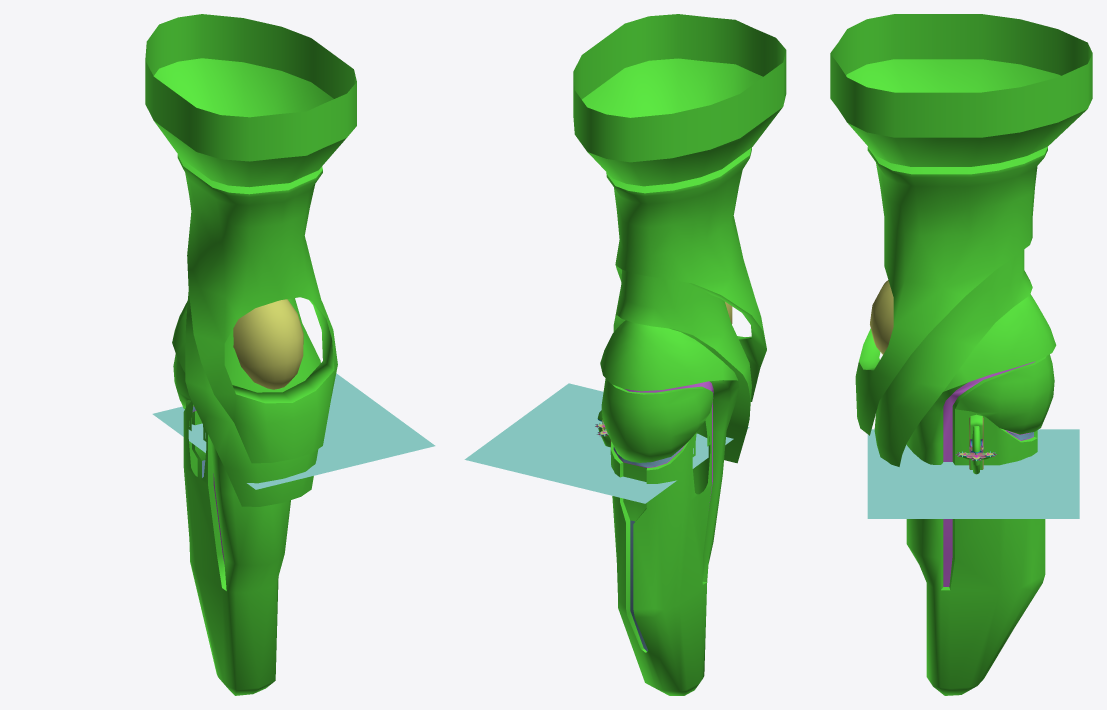
The picture shows the model from 3 angles, left to right: view 1: azimuth 30°, elevation 25°; view 2: azimuth 150°, elevation 25°; view 3: azimuth 270°, elevation 25°; orthographic projection. The views are drawn at different scales.
Parts seen in each view (by area): view 1: towerbcap1, cluster_19_cull01, cluster_19_cull03, towerbegg; view 2: towerbcap1, cluster_19_cull01, cluster_19_cull03; view 3: towerbcap1, cluster_19_cull01, cluster_19_cull03, towerbegg, cluster_19, cluster_19_cull02.
Boxes of the visible parts, bbox=[...] form: towerbcap1: bbox=[145, 14, 356, 463]; cluster_19_cull01: bbox=[172, 291, 320, 695]; cluster_19_cull03: bbox=[152, 373, 435, 489]; towerbegg: bbox=[233, 299, 303, 389]; towerbcap1: bbox=[573, 14, 786, 401]; cluster_19_cull01: bbox=[600, 269, 751, 695]; cluster_19_cull03: bbox=[464, 383, 749, 503]; towerbcap1: bbox=[830, 14, 1092, 435]; cluster_19_cull01: bbox=[874, 249, 1056, 695]; cluster_19_cull03: bbox=[867, 429, 1079, 518]; towerbegg: bbox=[870, 280, 893, 354]; cluster_19: bbox=[959, 426, 993, 465]; cluster_19_cull02: bbox=[969, 414, 983, 474].
Bounding box in the file's own units: 7753934 × 1.42e+07 × 5285376.
